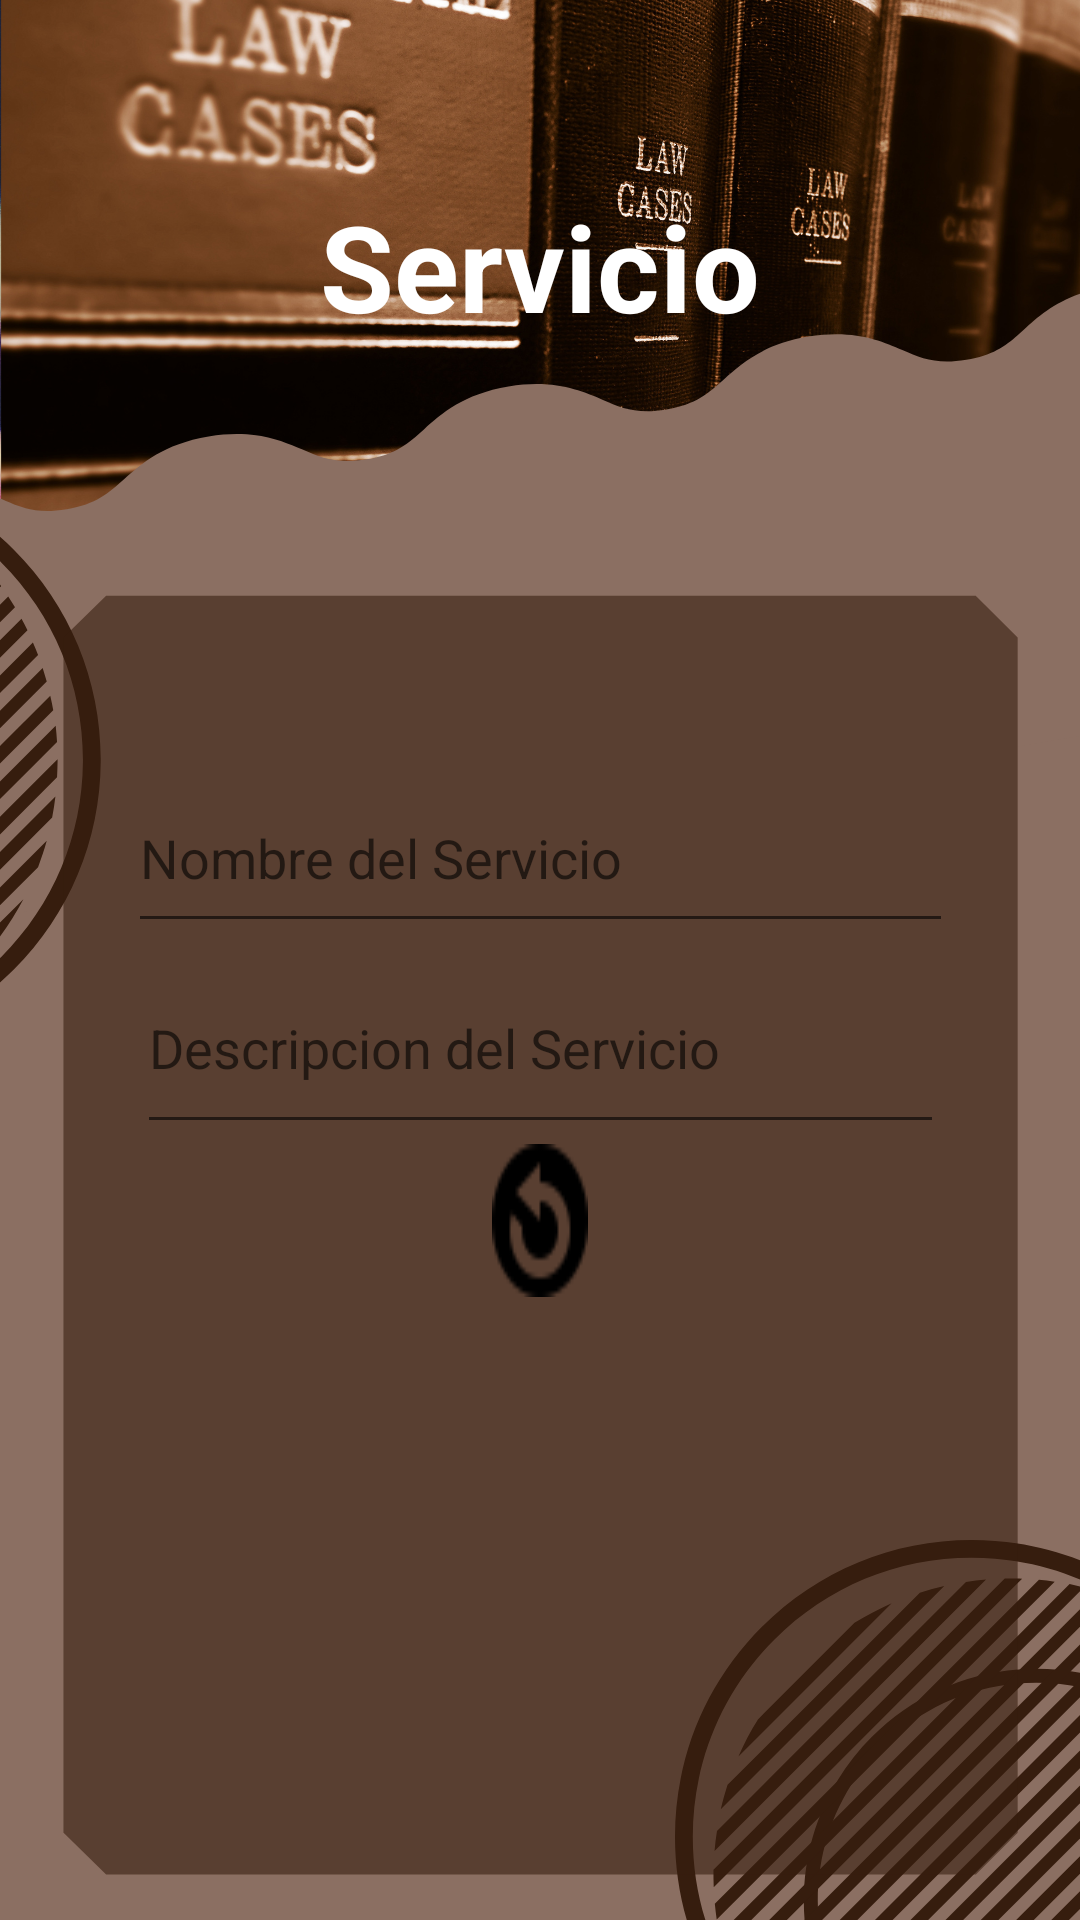

Icon click points for this 1080*1920 phone screenshot, format [x,y]:
actualizar: [540,1220]
